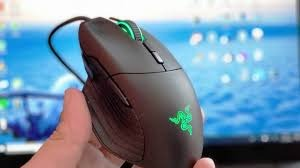mouse: (72, 10, 212, 168)
